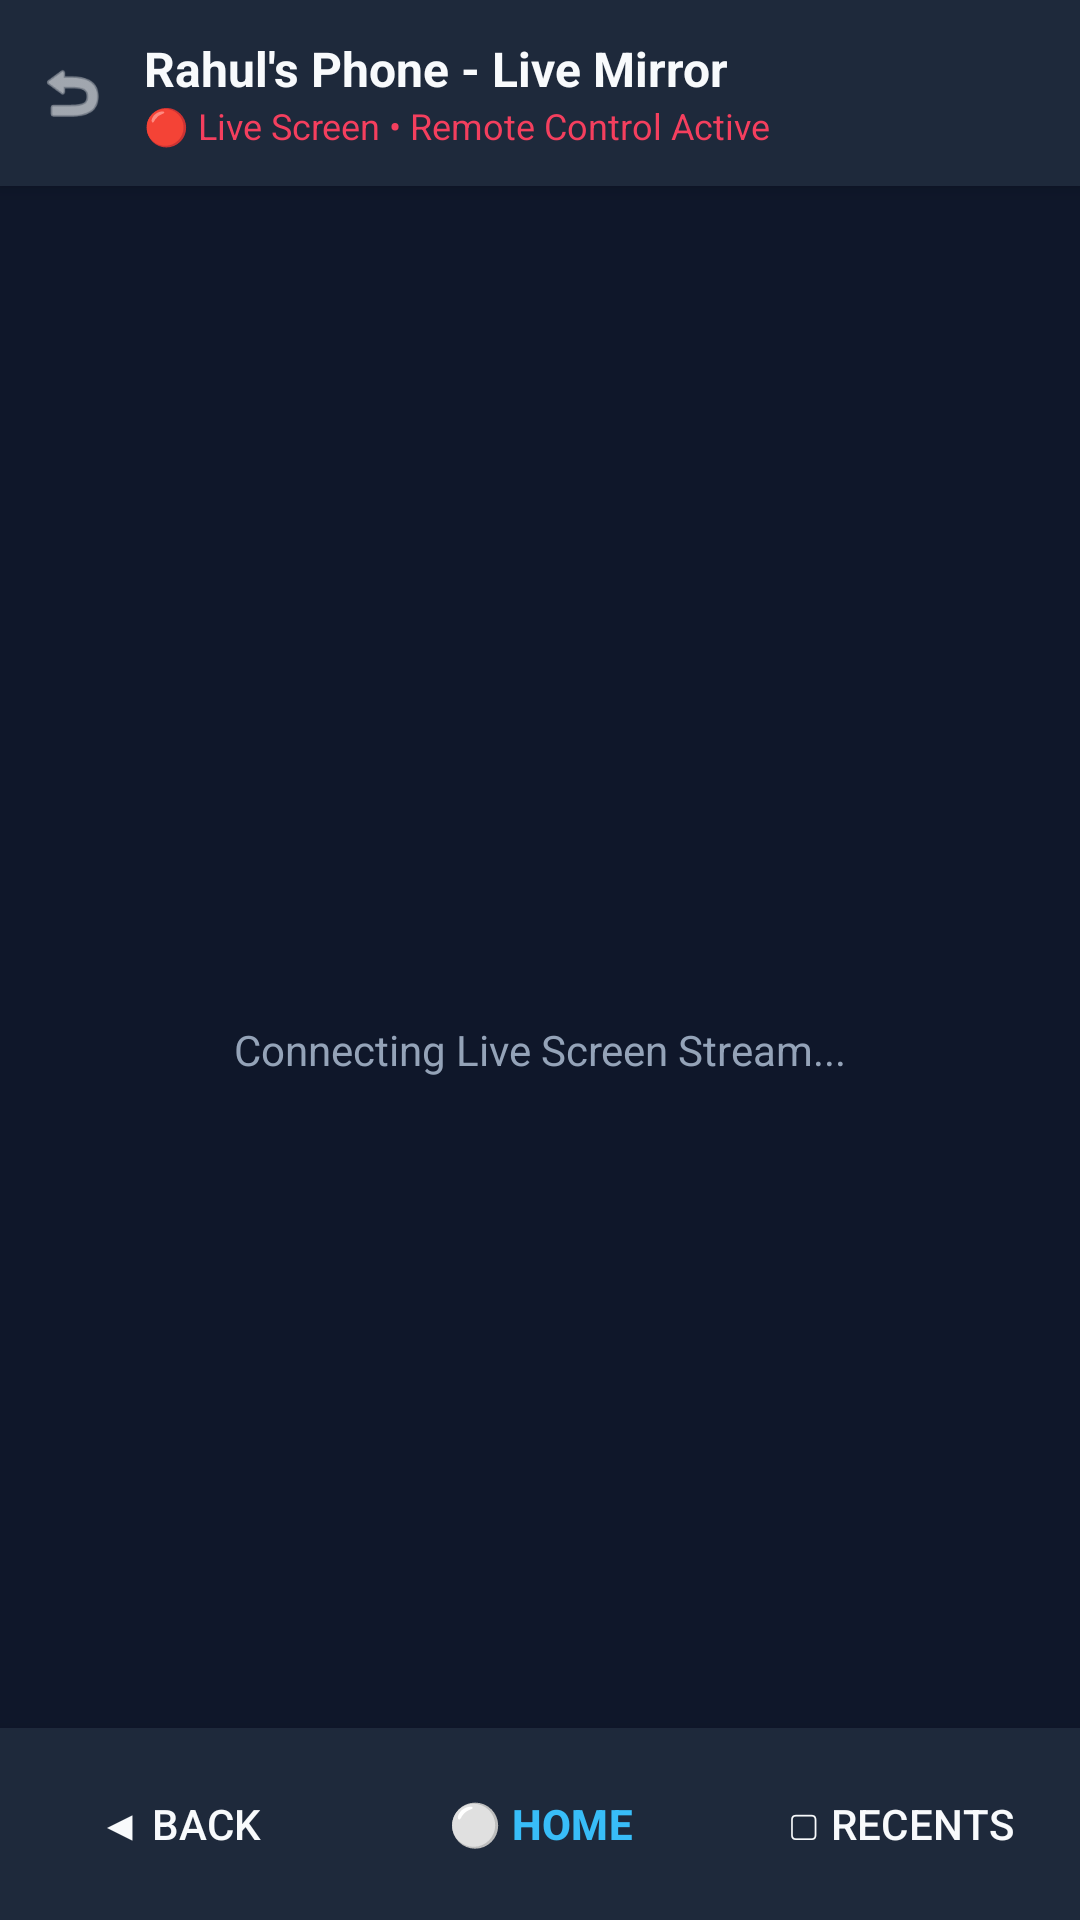

Named icons in this screenshot (1080px×1920px) and their centers, [x,y]:
Back: [73,93]
